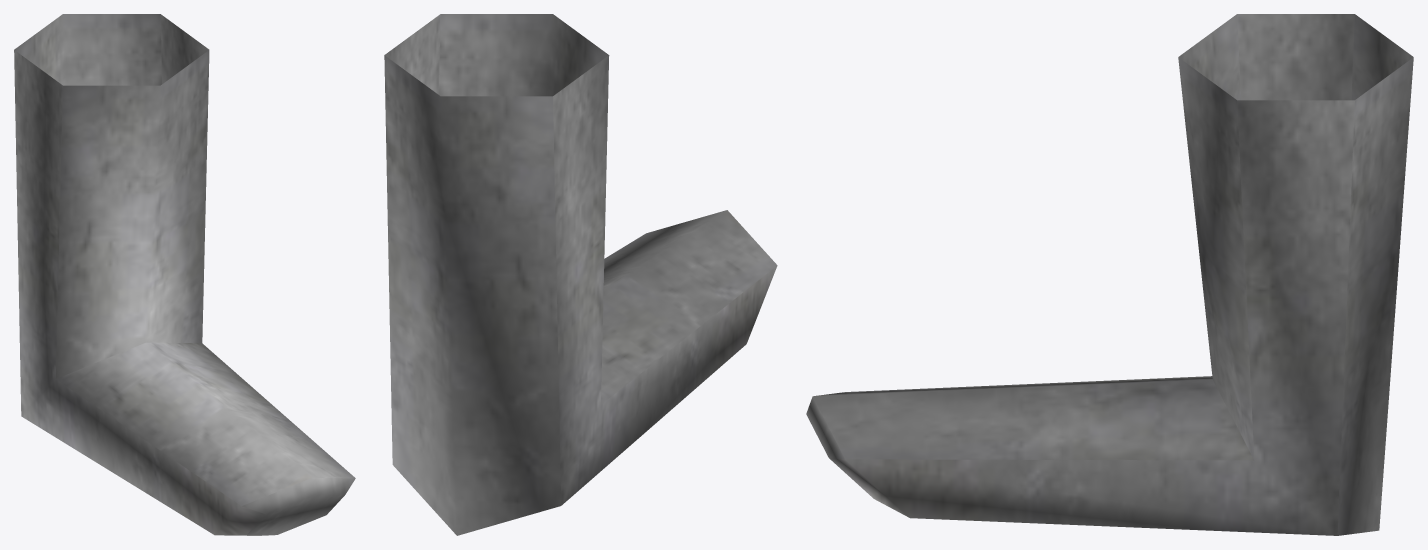
Rendered from Manija_03.glb.
3 renders of one model, left to right at view 1: azimuth 30°, elevation 25°; view 2: azimuth 150°, elevation 25°; view 3: azimuth 270°, elevation 25°, orthographic. The views are drawn at different scales.
Visible parts, largest first — view 1: Manija_03; view 2: Manija_03; view 3: Manija_03.
Boxes of the visible parts, x1,y1,x2,y2 form: Manija_03: [14, 14, 355, 535]; Manija_03: [384, 14, 777, 535]; Manija_03: [806, 14, 1413, 535].
Bounding box in the file's own units: 0.0275 × 0.0704 × 0.0819.
Materials: 1 (1 with a texture image).
